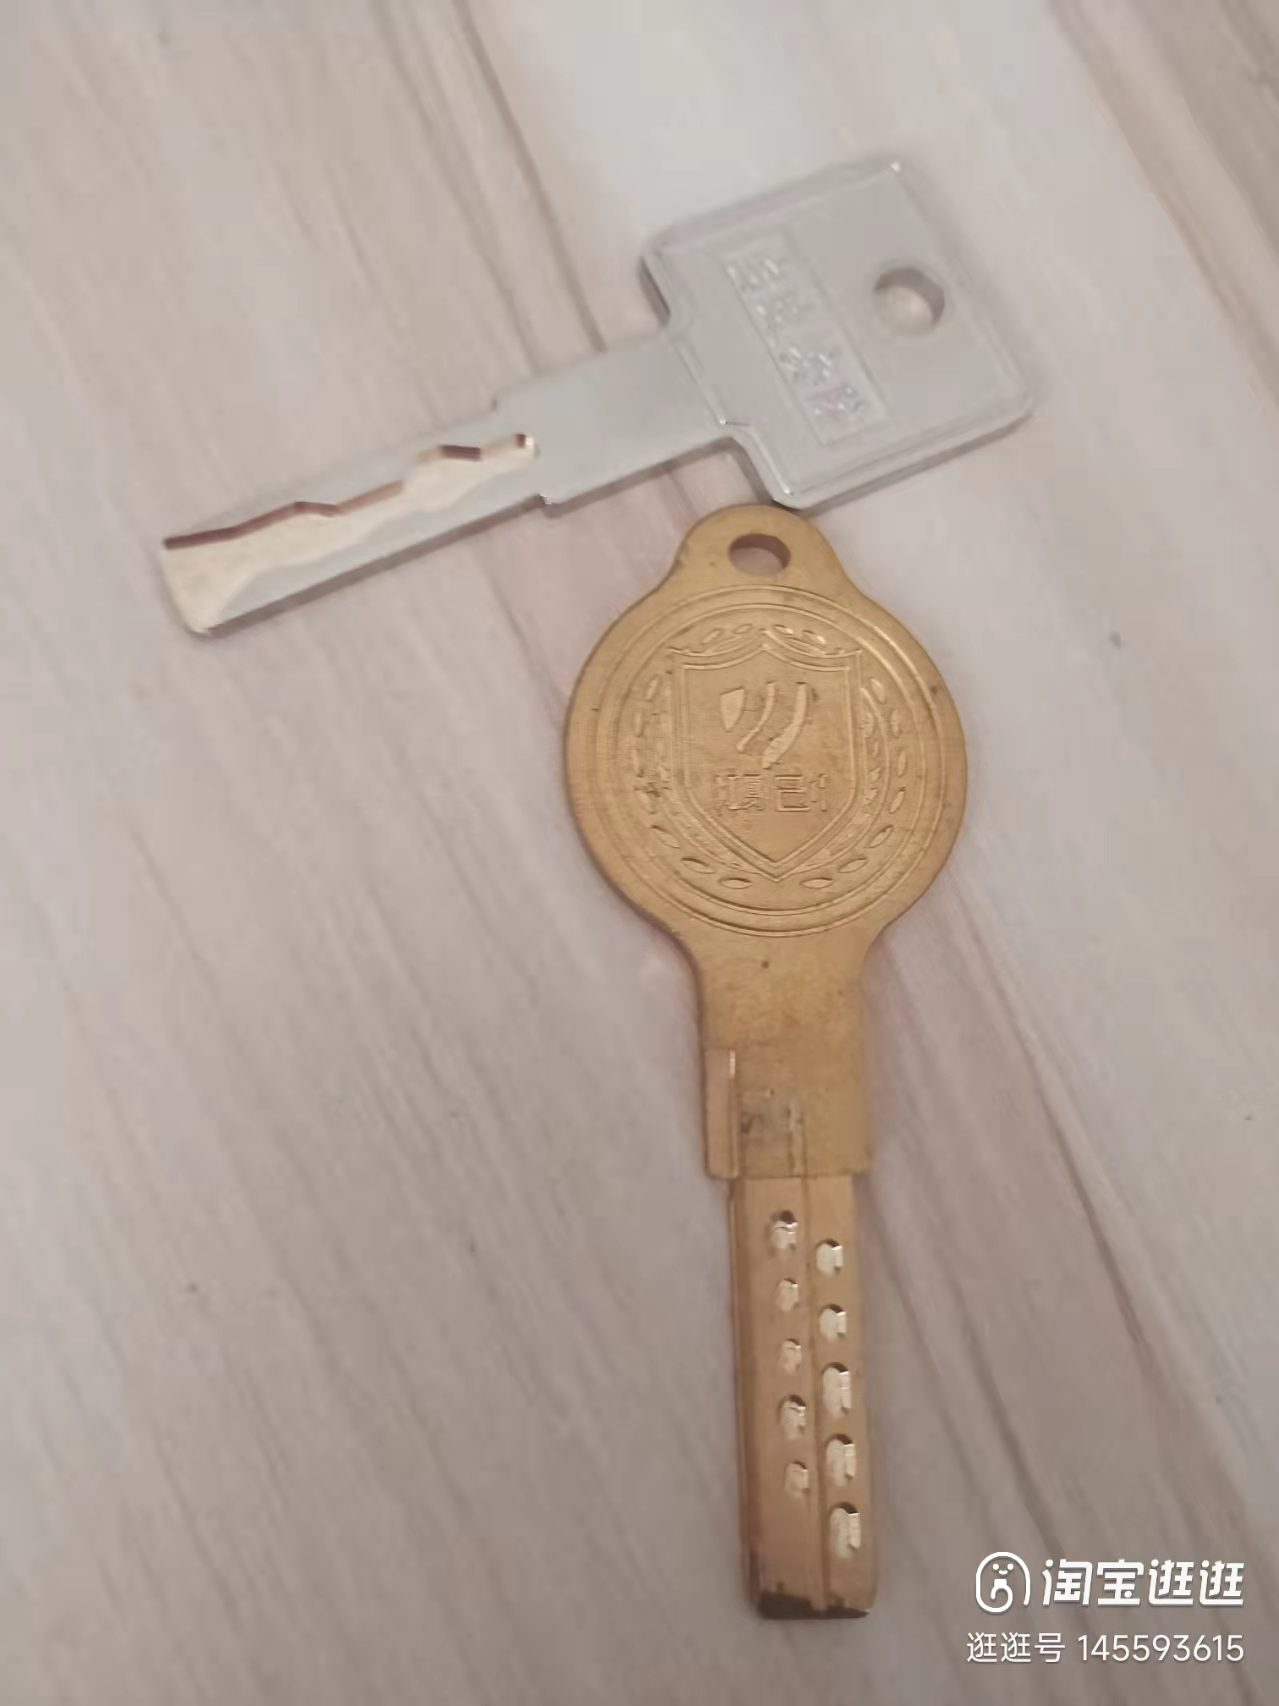key: (544, 498, 978, 1639), (155, 132, 1061, 658)
